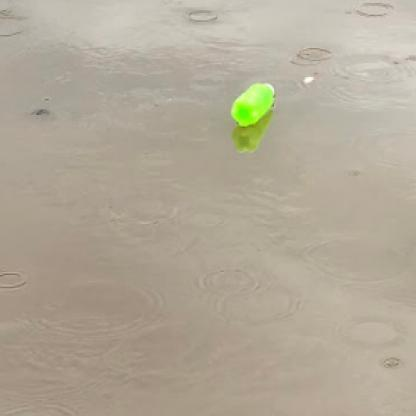plastic bottle: (231, 83, 274, 127)
